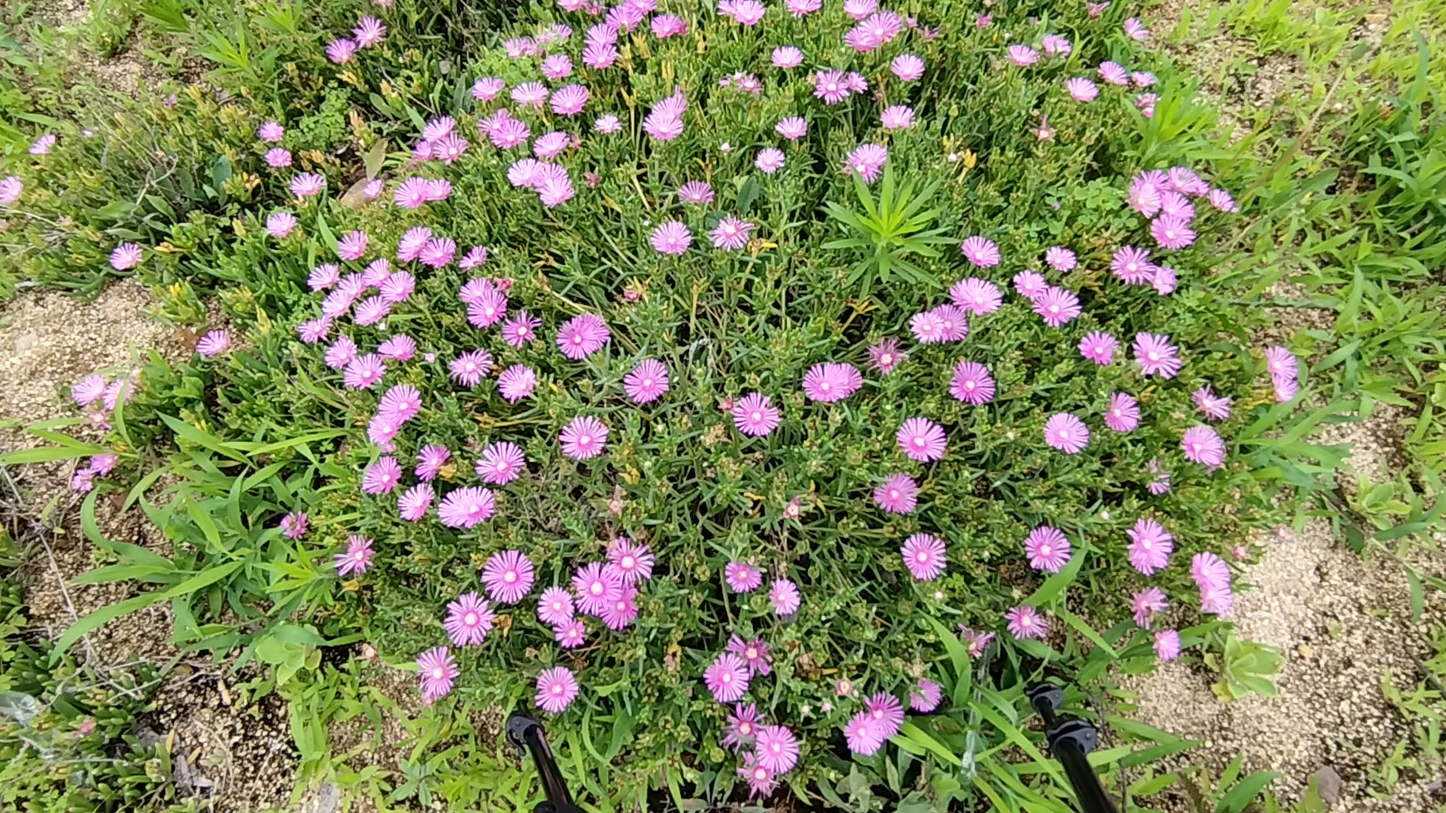bees: (287, 511, 300, 531), (1143, 604, 1158, 620)
